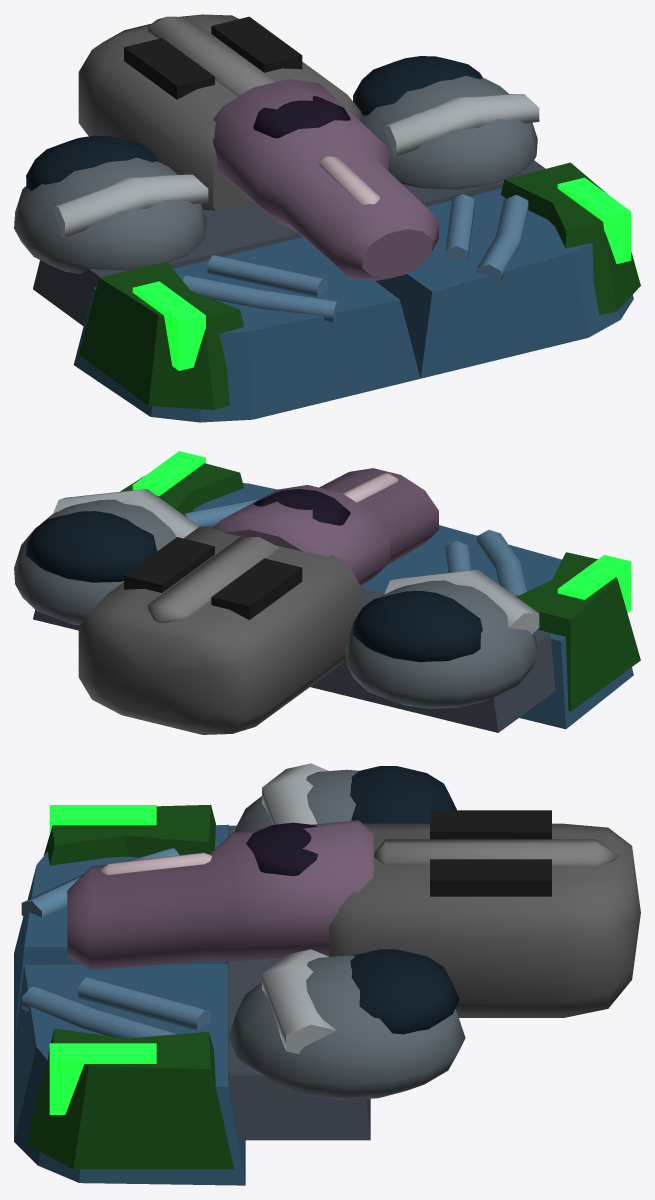
Rendered from newshc-191.glb.
The picture shows the model from 3 angles, top to bottom: view 1: azimuth 30°, elevation 25°; view 2: azimuth 150°, elevation 25°; view 3: azimuth 270°, elevation 25°; orthographic projection. The views are drawn at different scales.
Visible parts, largest first — view 1: newshc-191; view 2: newshc-191; view 3: newshc-191.
Boxes of the visible parts, bbox=[...] form: newshc-191: bbox=[14, 14, 640, 422]; newshc-191: bbox=[14, 451, 640, 734]; newshc-191: bbox=[14, 763, 640, 1185].
Size of the model in its own units: 1.85 by 0.661 by 1.76.
